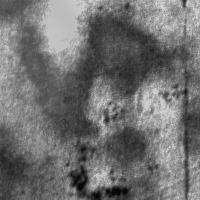patches: (18, 17, 170, 134), (0, 0, 84, 136), (0, 108, 78, 200), (63, 140, 131, 197), (95, 124, 155, 185), (1, 1, 50, 30)
